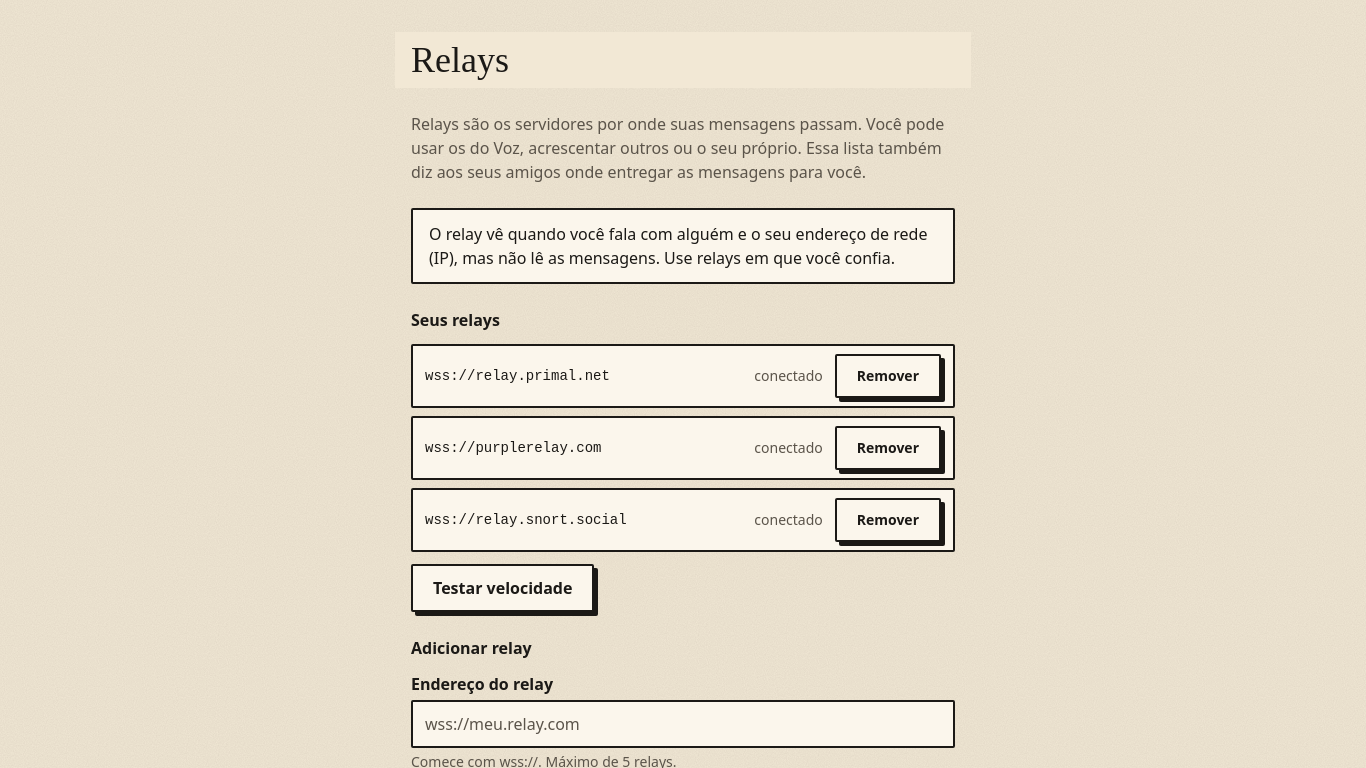
tela de relays › o limite e de 5: o sexto e recusado
Type "wss://quatro.com" into the field labelled "Endereço do relay" at (683, 724), box [411,700,955,748]
(page scrolled)
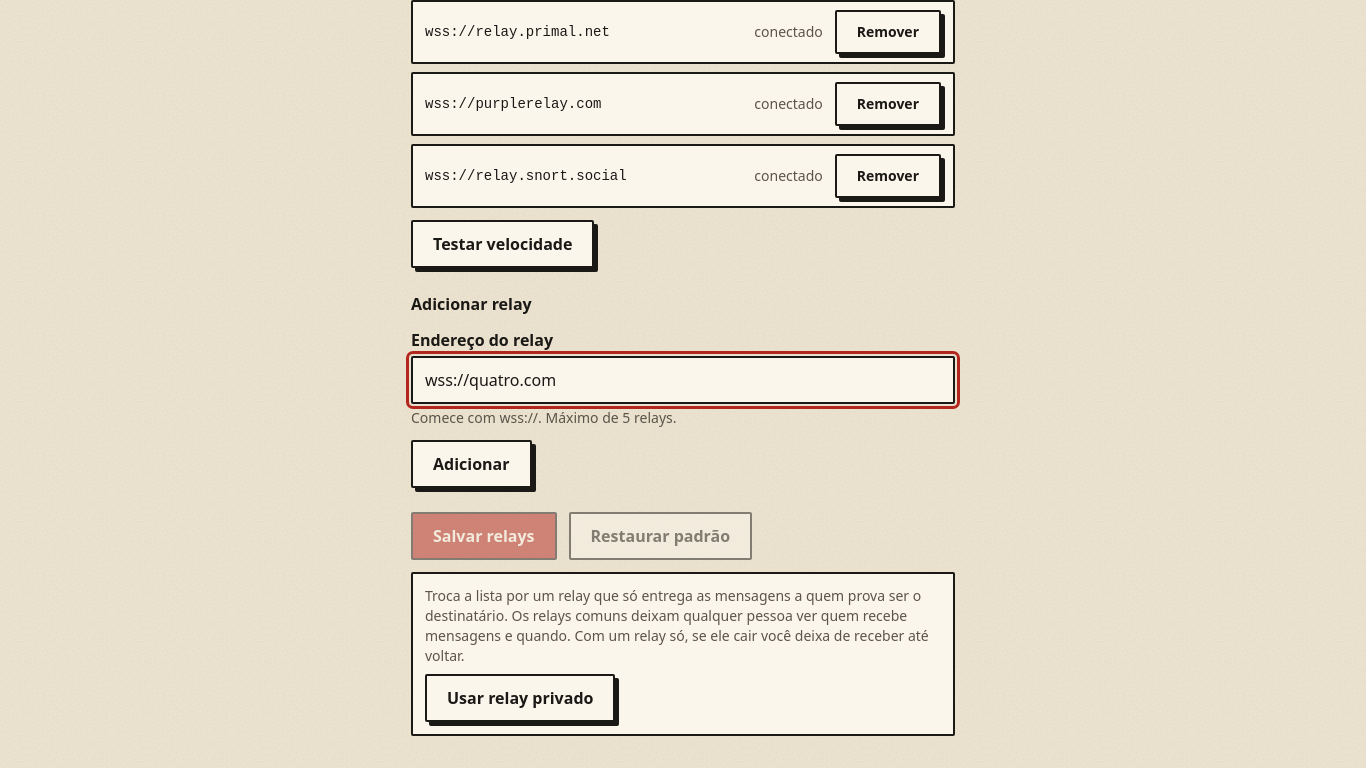
Click the button "Adicionar" at (471, 464), box [411,440,532,488]
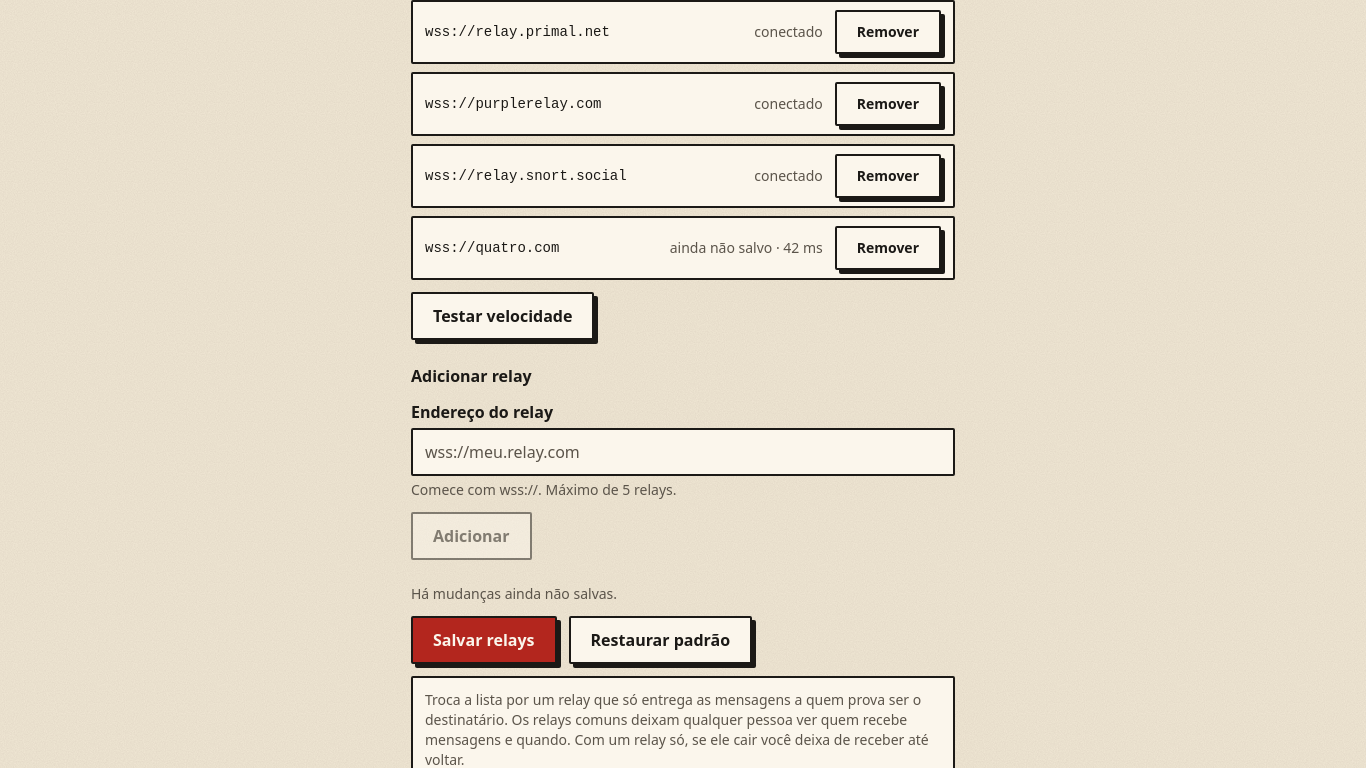
Check: the text "wss://quatro.com" is shown, box [425,240,559,256]
Type "wss://cinco.com" into the field labelled "Endereço do relay" at (683, 452), box [411,428,955,476]
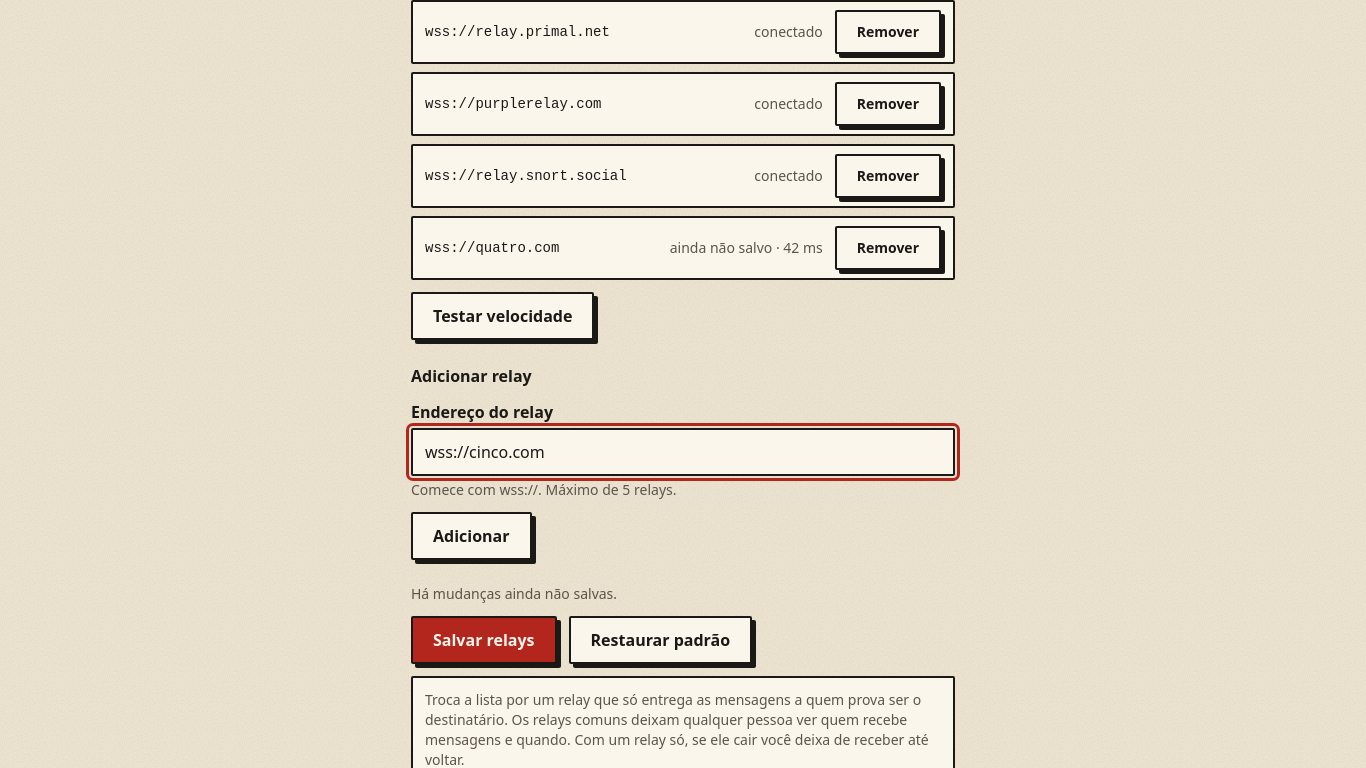
Click the button "Adicionar" at (471, 536), box [411,512,532,560]
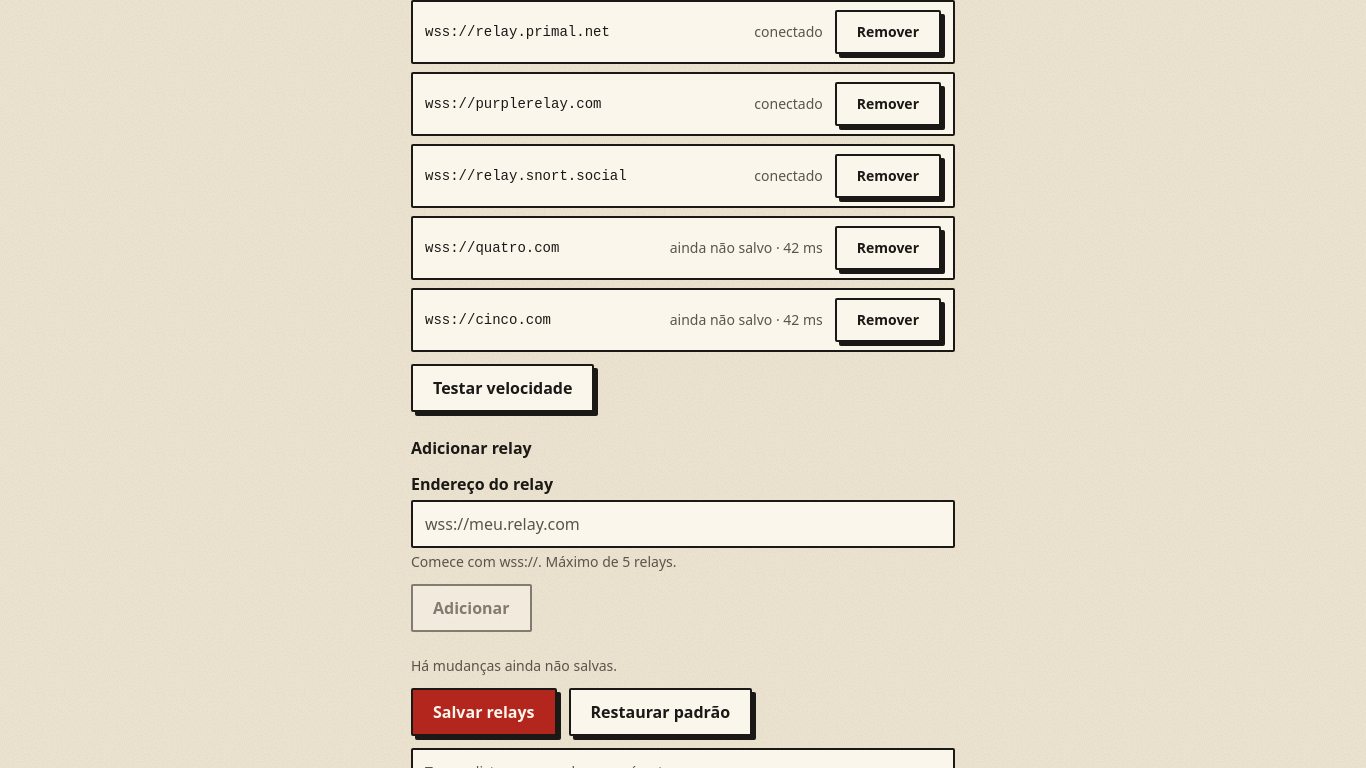
Check: the text "wss://cinco.com" is shown, box [425,312,551,328]
Type "wss://seis.com" into the field labelled "Endereço do relay" at (683, 524), box [411,500,955,548]
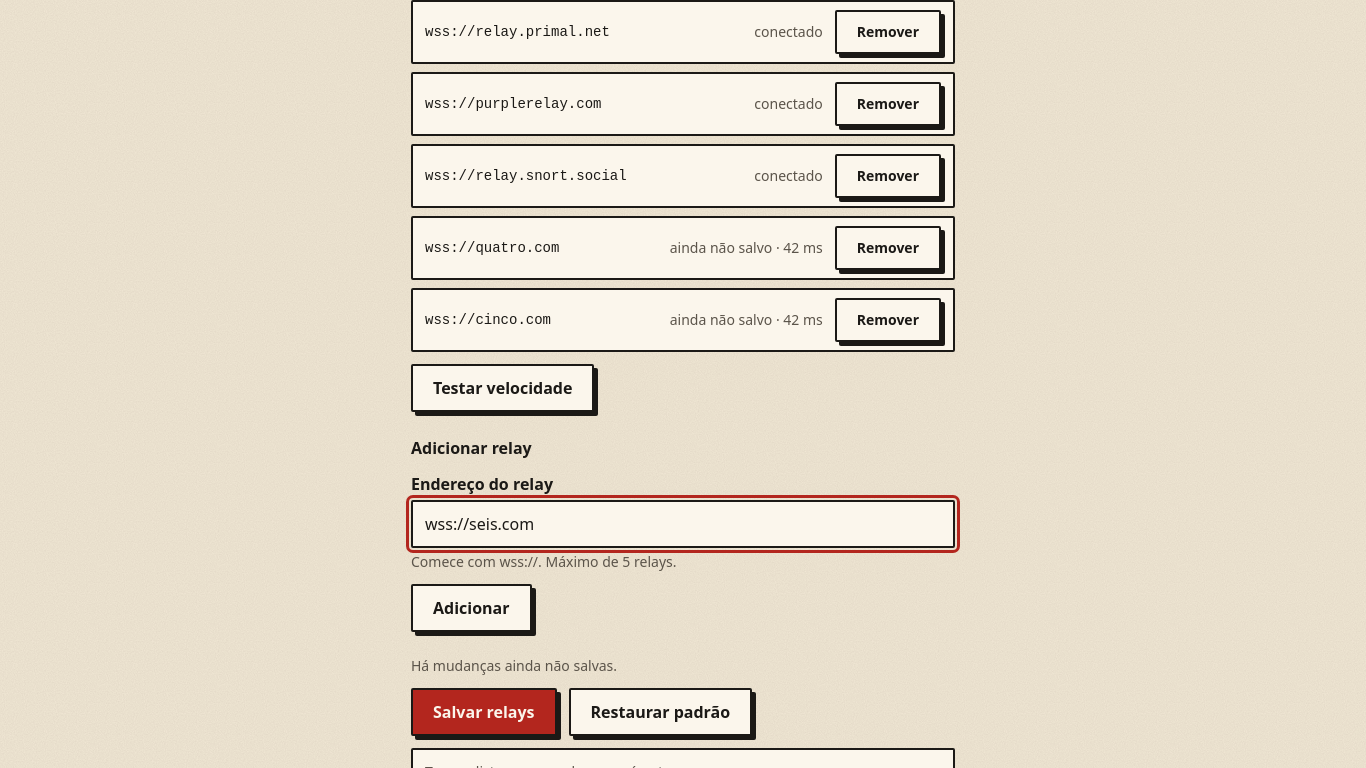
Click the button "Adicionar" at (471, 608), box [411,584,532,632]
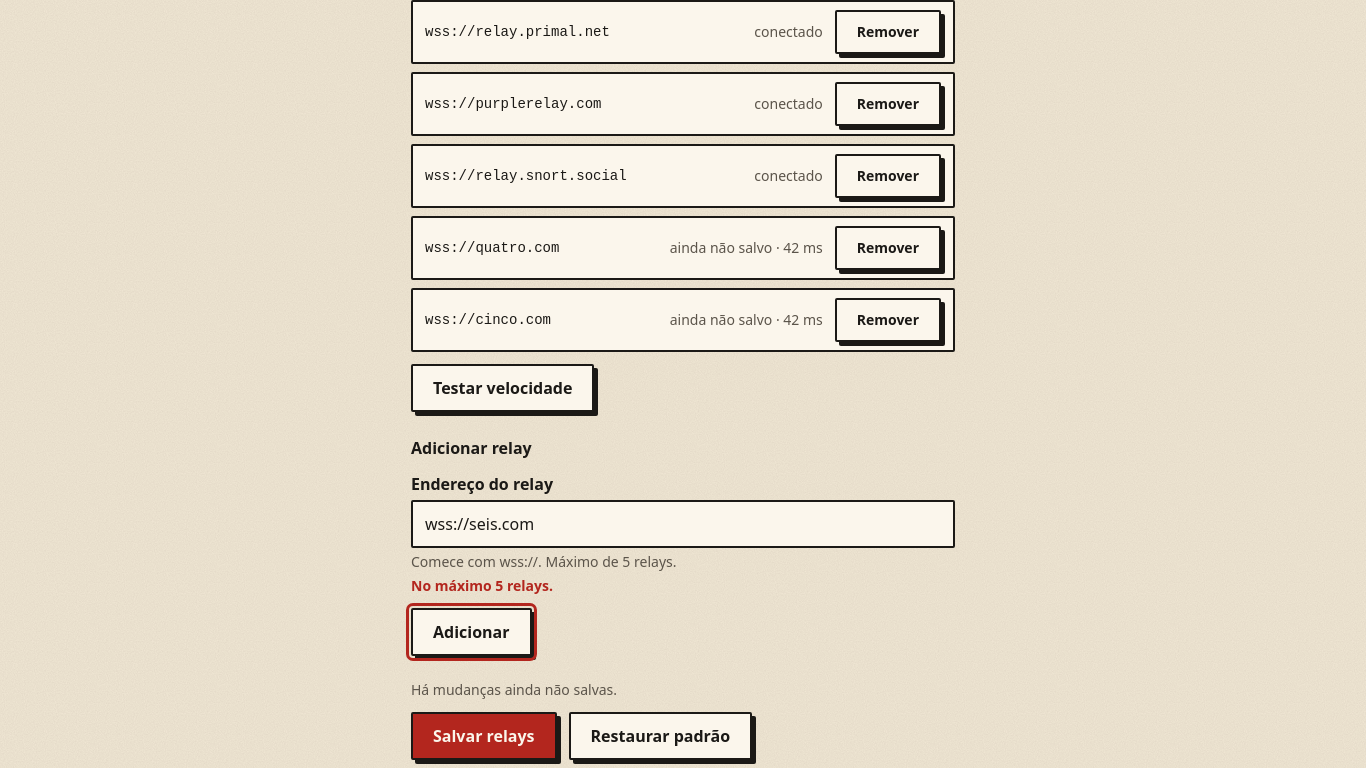
Check: the text "No máximo 5 relays." is shown, box [411,576,553,595]
